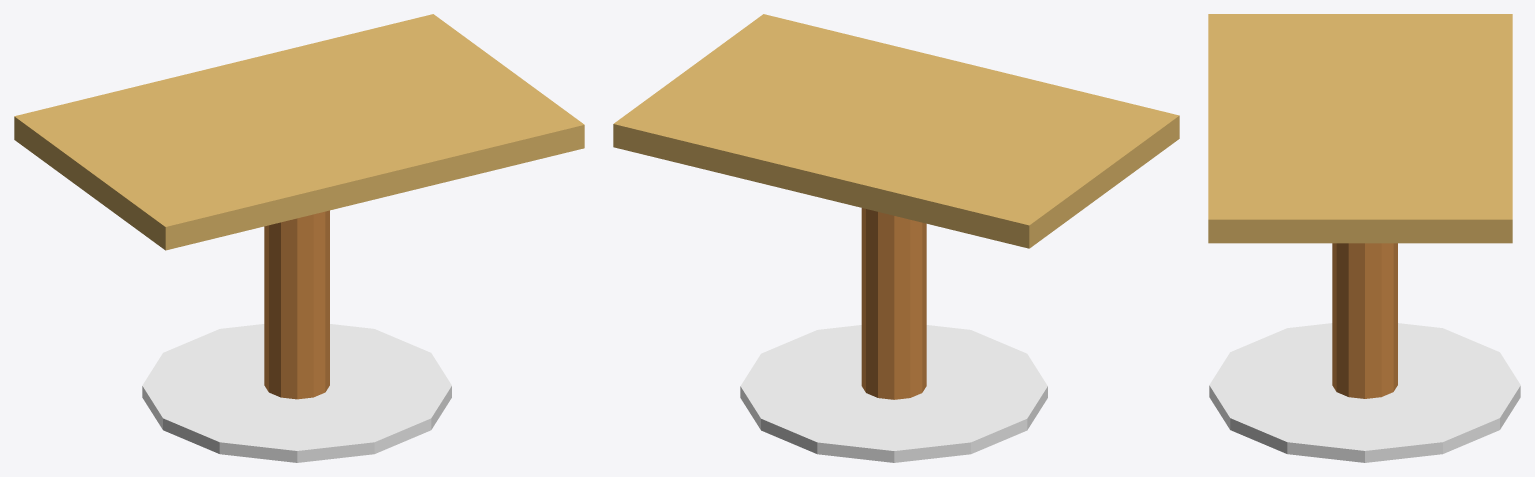
File: Table_Level_01.fbx
3 views of the same model, side by side, from view 1: azimuth 30°, elevation 25°; view 2: azimuth 150°, elevation 25°; view 3: azimuth 270°, elevation 25° (orthographic).
Visible parts, largest first — view 1: Table_Level_01; view 2: Table_Level_01; view 3: Table_Level_01.
Boxes of the visible parts, left/top/right/bottom form: Table_Level_01: left=14, top=14, right=584, bottom=462; Table_Level_01: left=613, top=14, right=1179, bottom=462; Table_Level_01: left=1208, top=14, right=1520, bottom=462.
Bounding box in the file's own units: 351 × 223 × 226.
